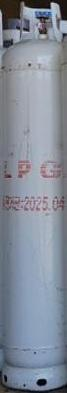cylinder: (0, 1, 67, 393)
